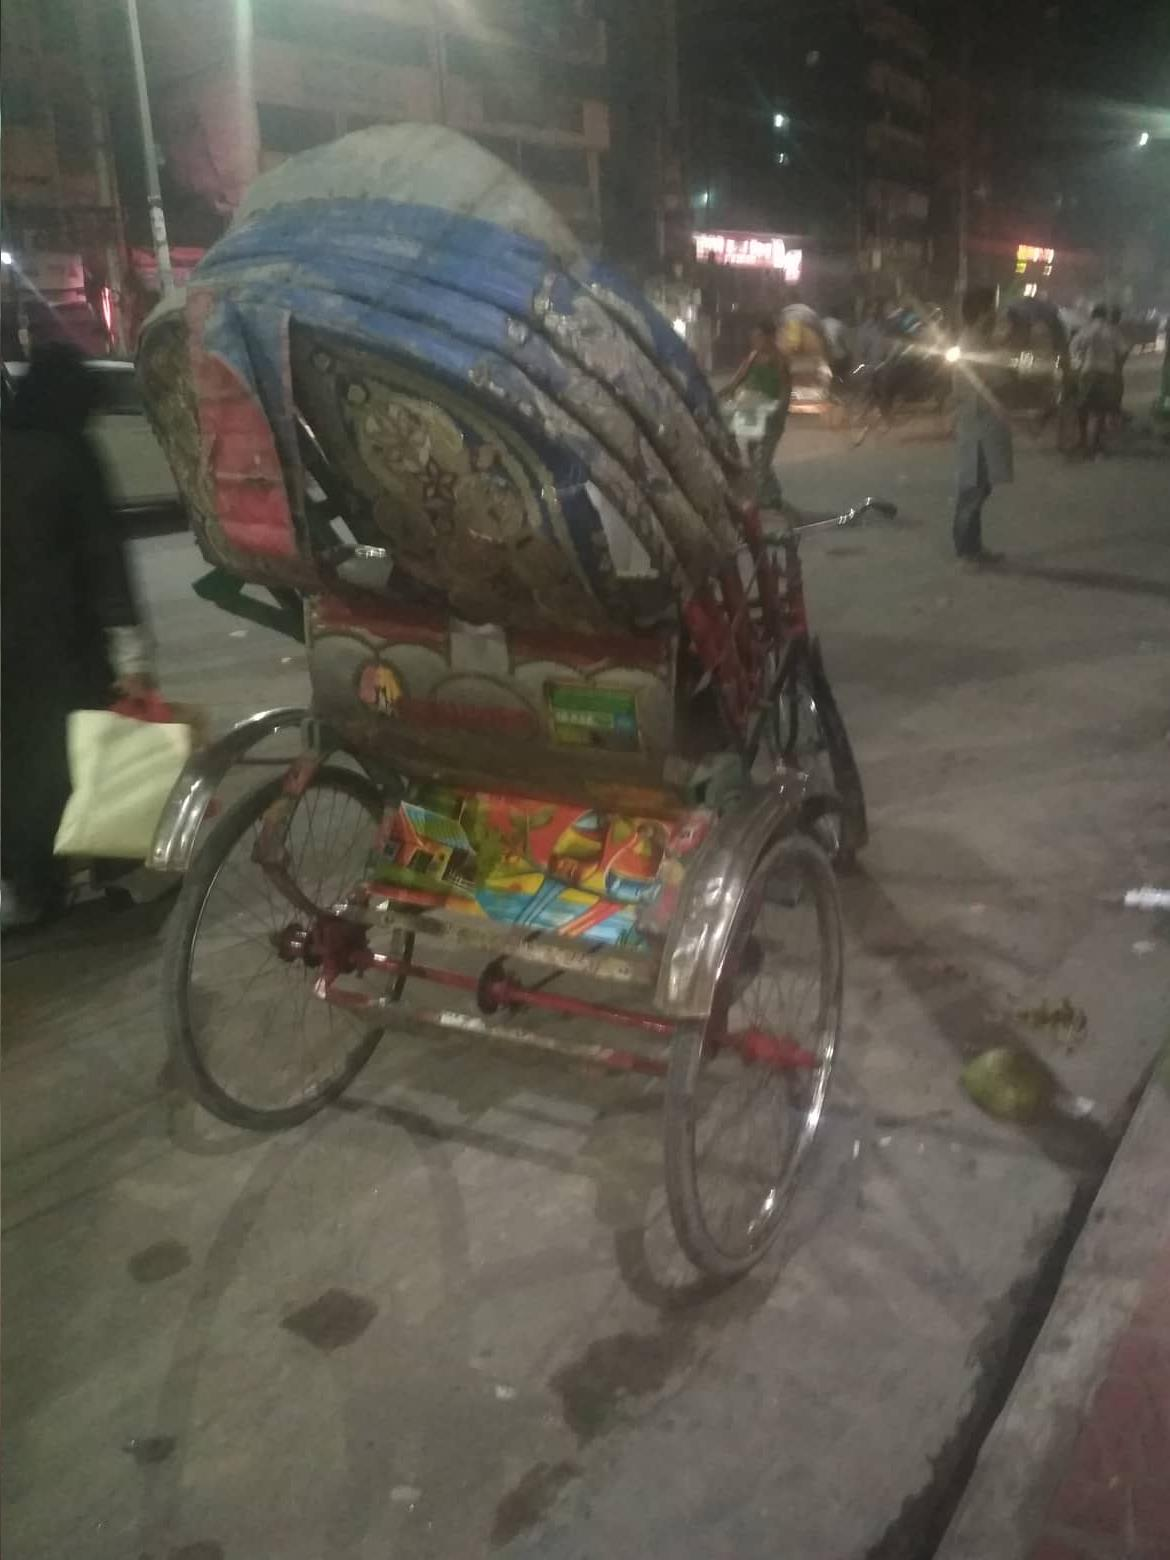Rickshaw: (106, 131, 914, 1262)
